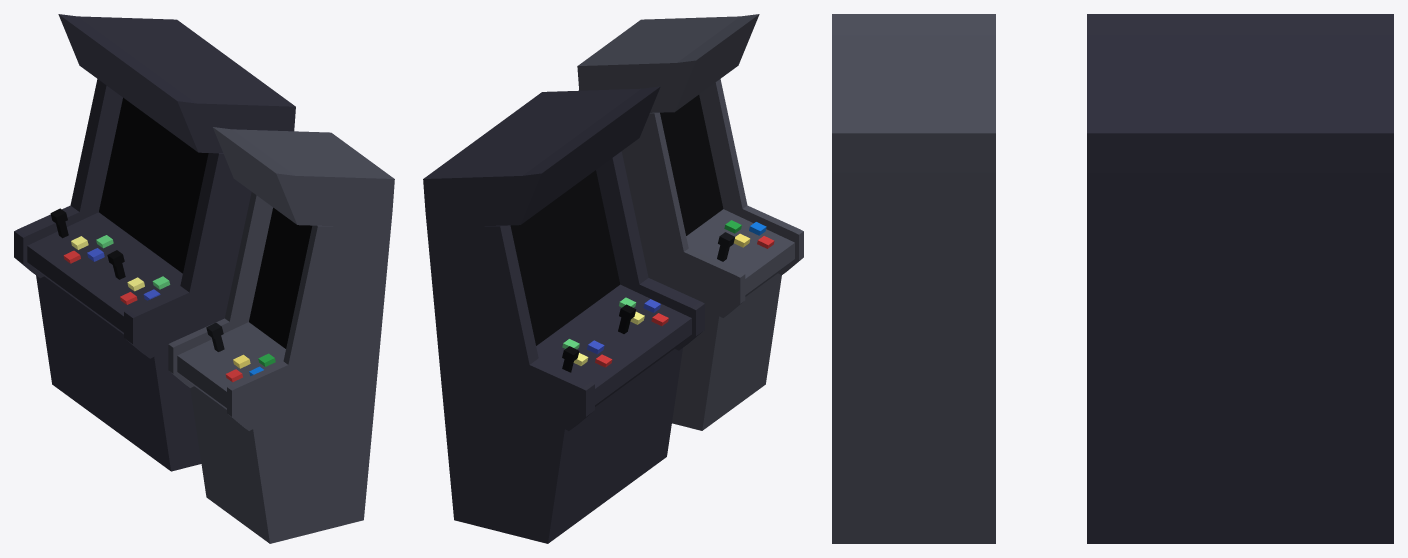
Rendered from avtomats.fbx.
The picture shows the model from 3 angles, left to right: view 1: azimuth 30°, elevation 25°; view 2: azimuth 150°, elevation 25°; view 3: azimuth 270°, elevation 25°; orthographic projection. The views are drawn at different scales.
Parts seen in each view (by area): view 1: avtomat2, avtomat1; view 2: avtomat2, avtomat1; view 3: avtomat2, avtomat1.
Part boxes in pixels (bbox=[...]): avtomat2: bbox=[14, 14, 295, 471]; avtomat1: bbox=[168, 127, 394, 543]; avtomat2: bbox=[423, 86, 704, 543]; avtomat1: bbox=[577, 14, 803, 430]; avtomat2: bbox=[1087, 14, 1393, 543]; avtomat1: bbox=[832, 14, 995, 543].
Size of the model in its own units: 148 by 319 by 342.
